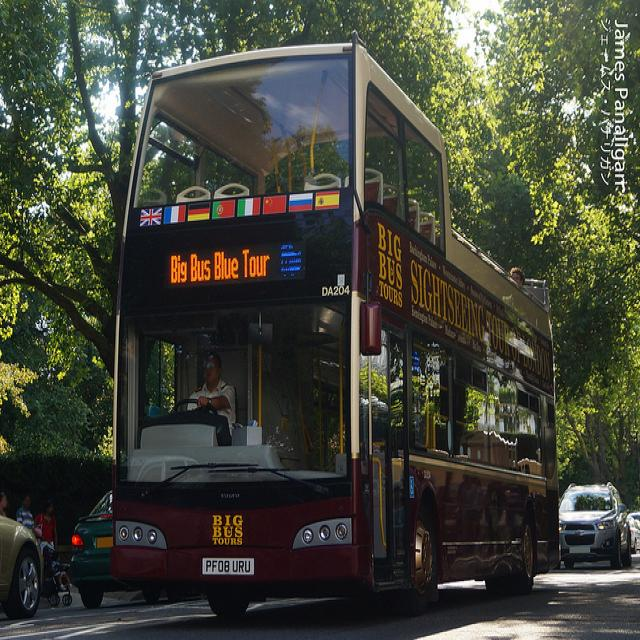Vehicle: (113, 34, 562, 622), (559, 481, 635, 573), (70, 491, 116, 611), (0, 516, 45, 616)
